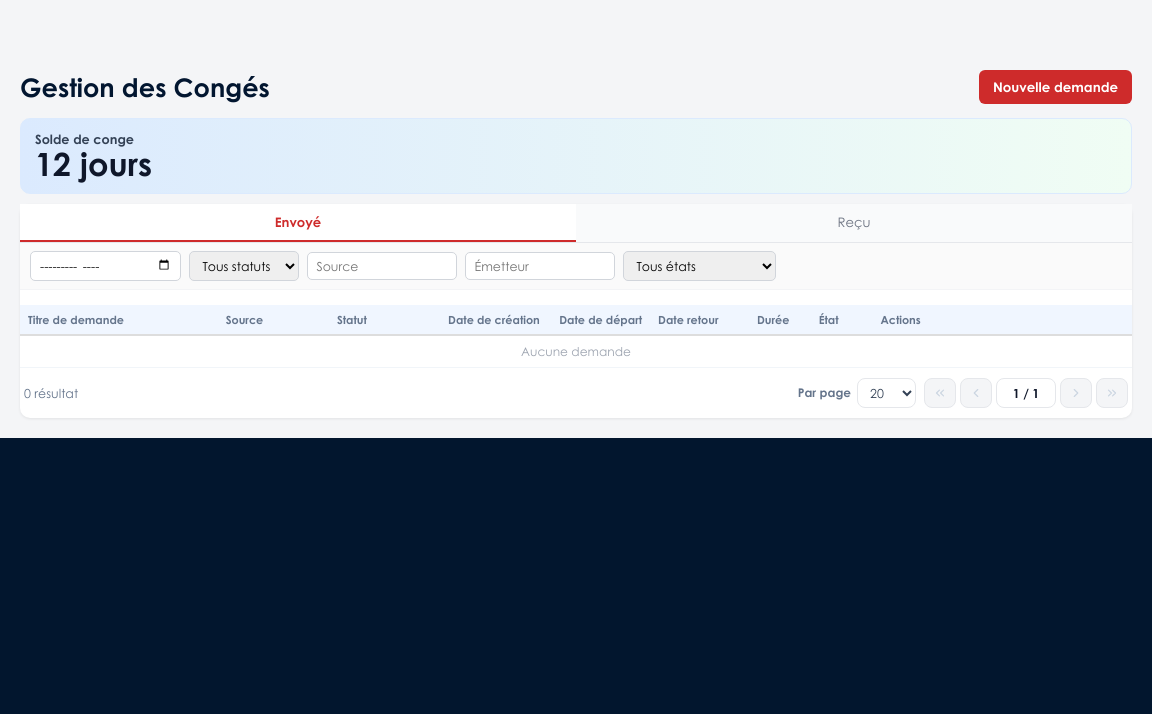
CongesPage › calcule la duree ouvrable en excluant samedi et dimanche
This screenshot has width=1152, height=714.
Click the button "Nouvelle demande". click: click(1056, 87)
box: [979, 70, 1132, 104]
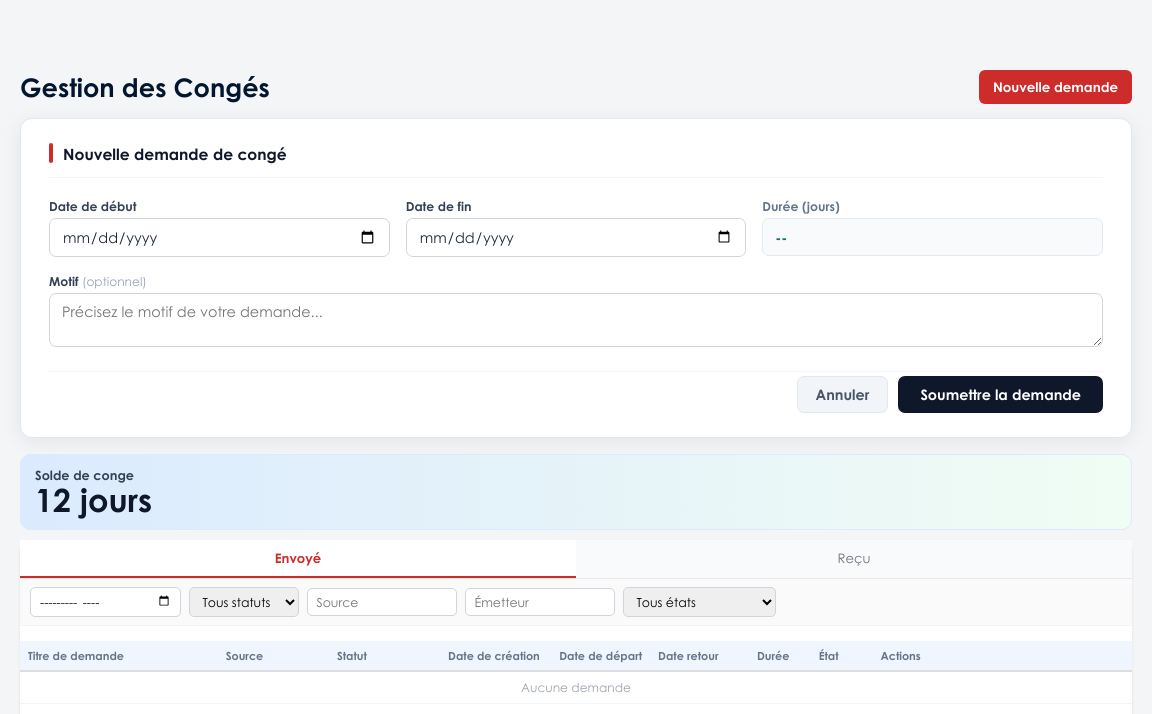
Type "2026-03-30" into the date field below "Date de début". click: (219, 238)
box: [49, 218, 390, 257]
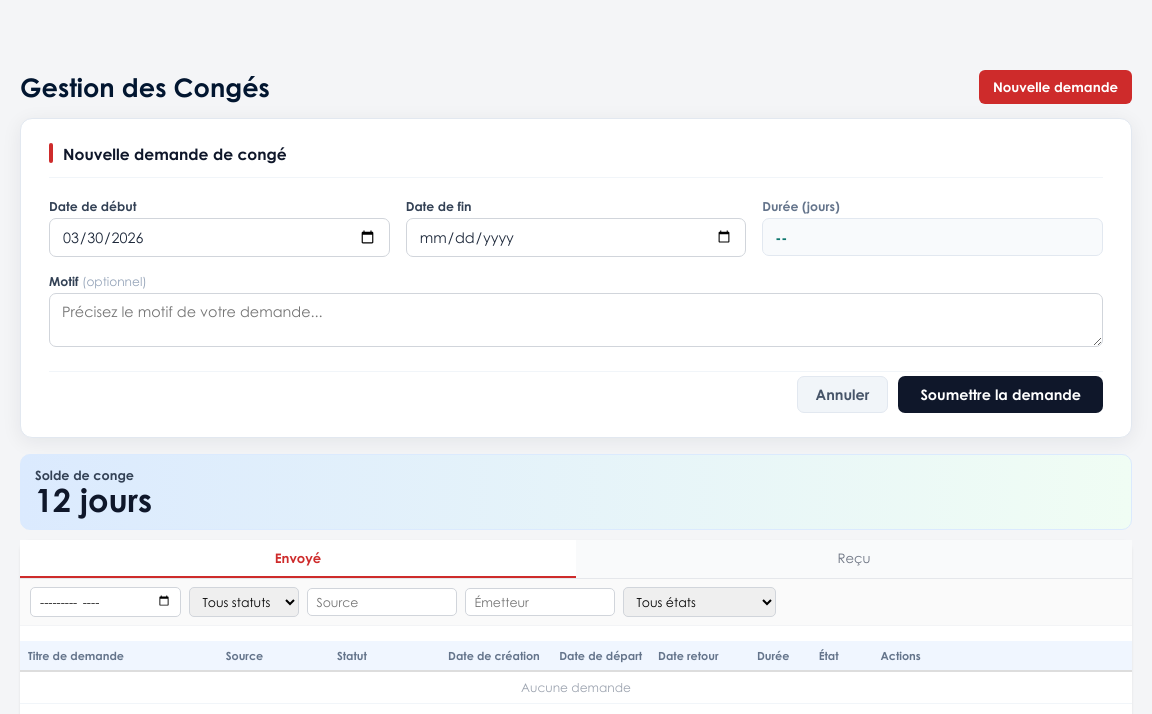
Type "2026-04-05" into the date field below "Date de fin". click: (576, 238)
box: [406, 218, 746, 257]
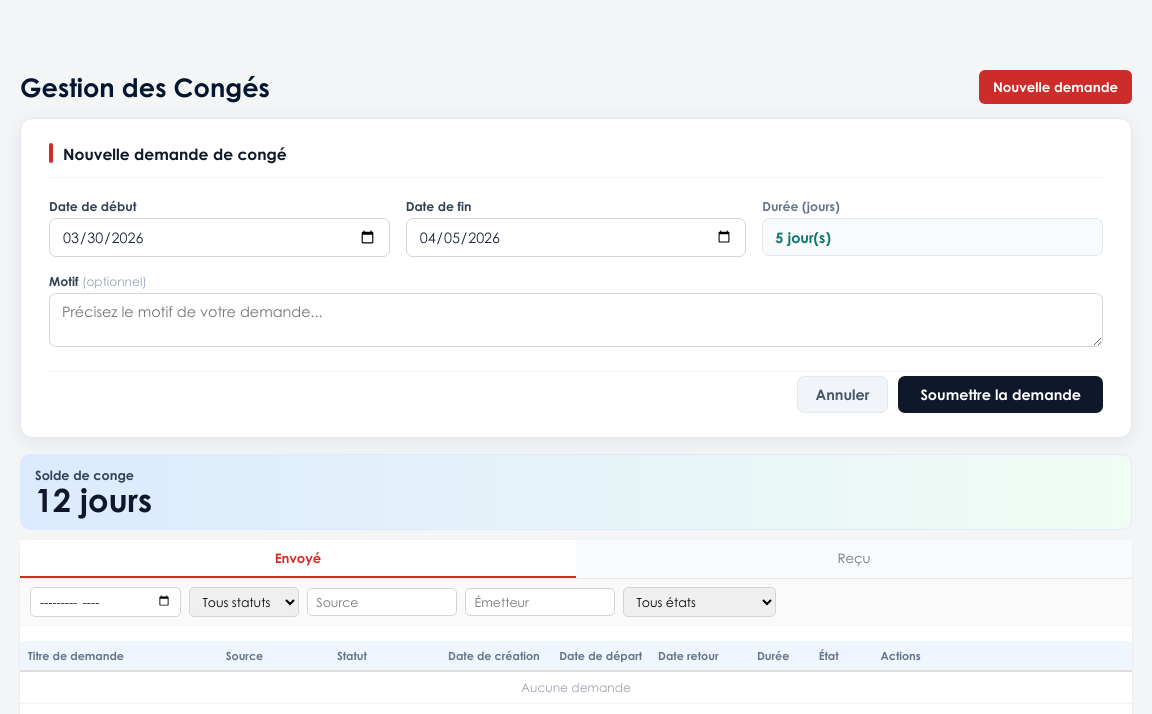
Result: the text "5 jour(s)" is shown at [762, 218, 1103, 256]
